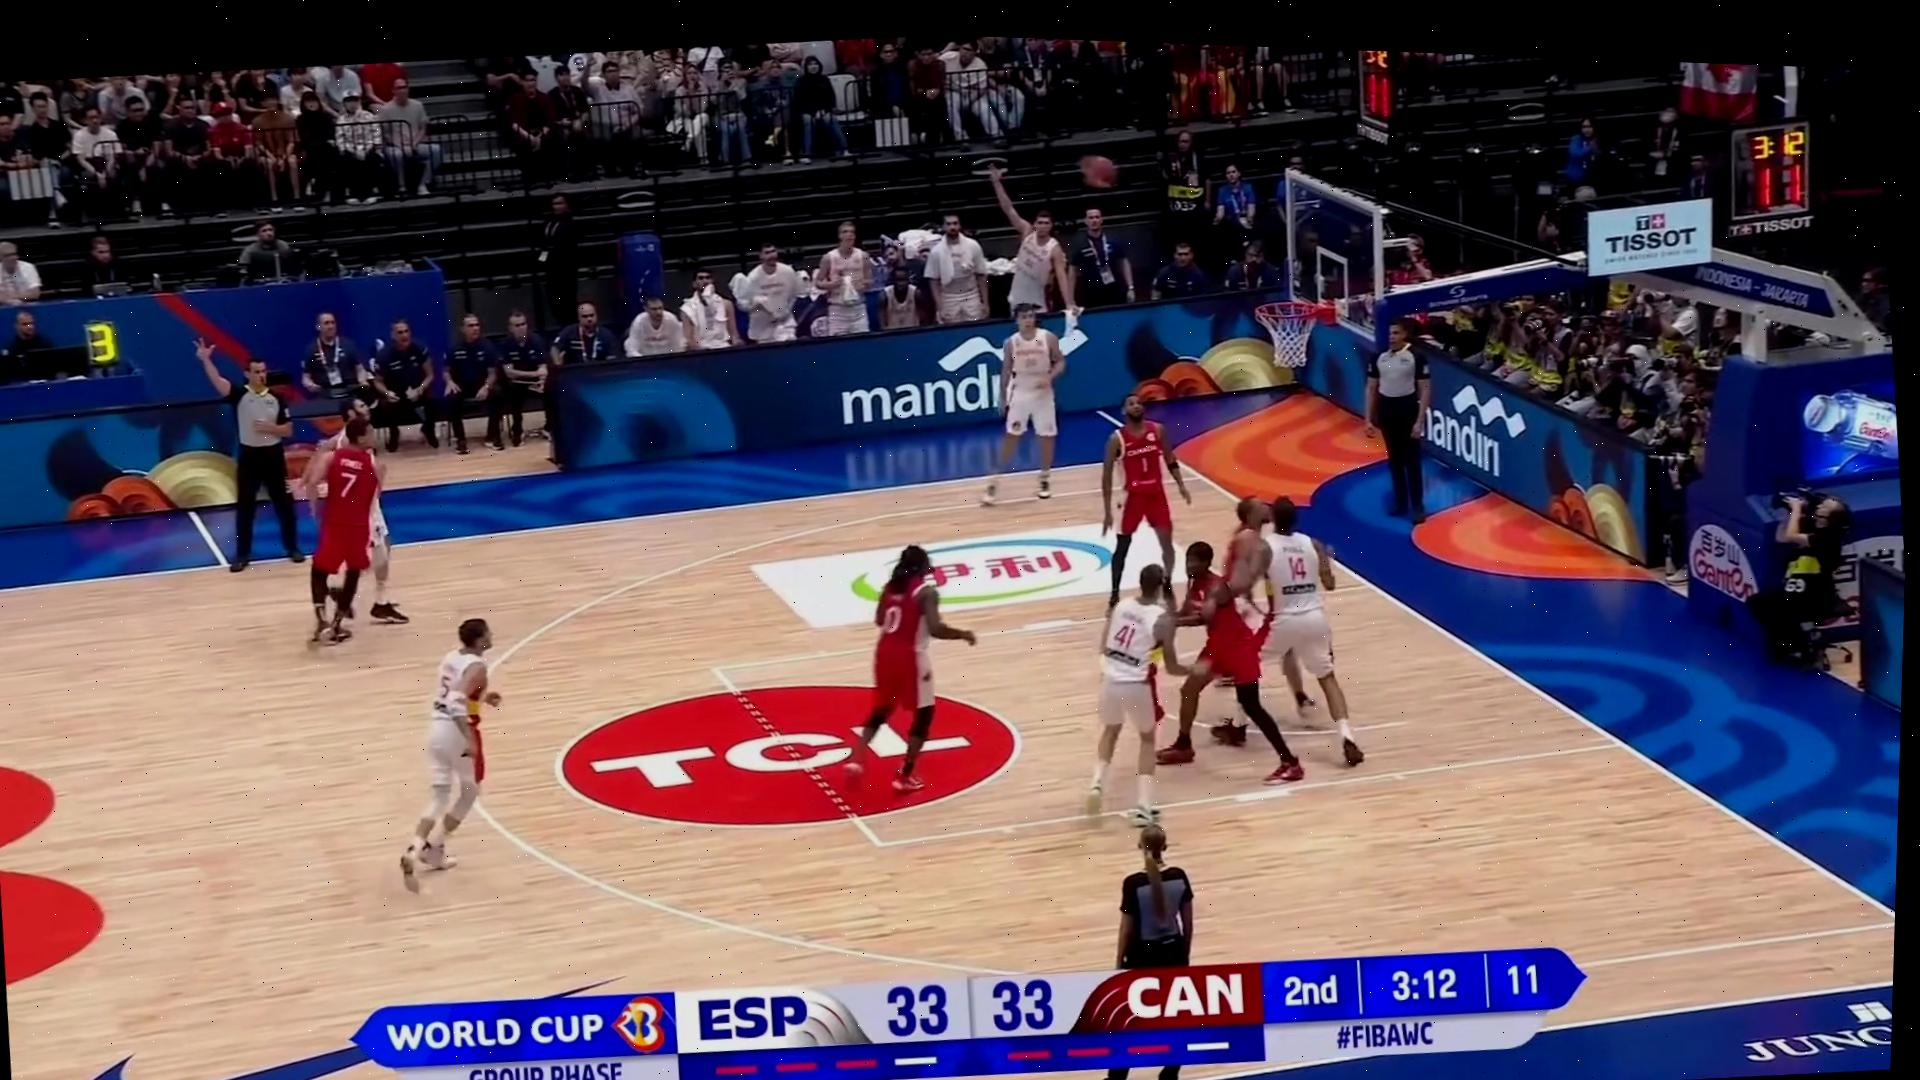no_foul: (256, 388, 426, 647)
